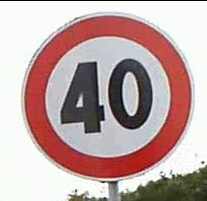limite 40: (19, 12, 195, 180)
